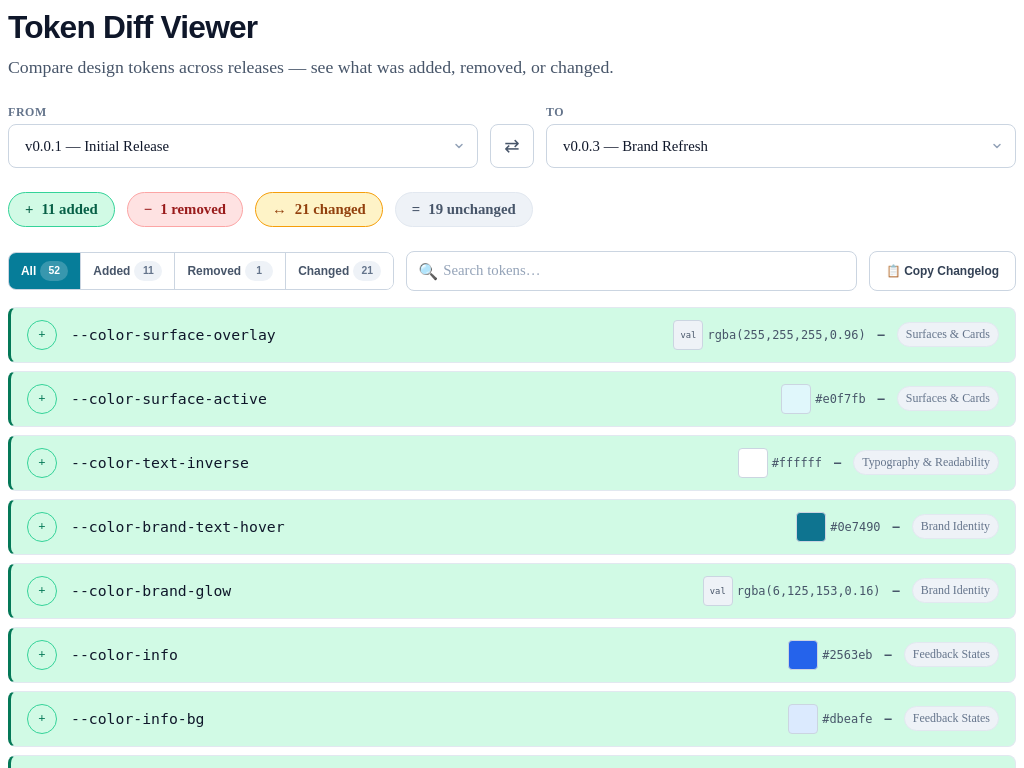
Test: TokenDiffViewer — version selection › selecting same version shows "Same Version Selected" message
Select "v0.0.1 — Initial Release" in the dropdown named "Target version" at (781, 146), box [546,124,1016,168]
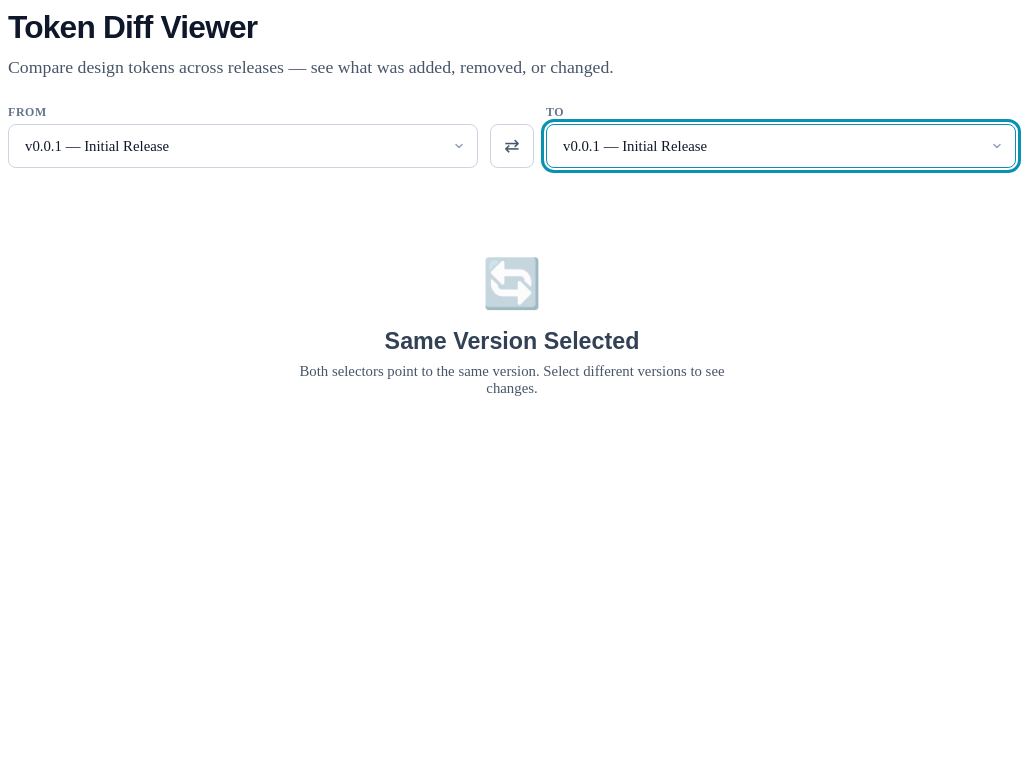
Now the heading "Same Version Selected" is shown, box [385,328,639,355]
